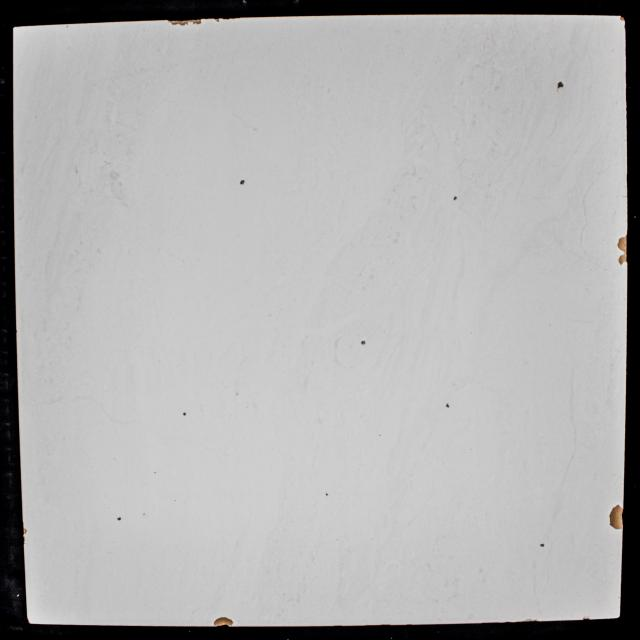edge-chipping: (609, 504, 624, 530), (214, 617, 234, 627), (617, 234, 627, 252), (618, 253, 628, 266), (171, 20, 189, 26), (522, 618, 540, 622), (192, 19, 202, 25), (582, 616, 590, 620), (620, 15, 625, 21), (23, 528, 27, 535), (214, 18, 220, 22), (23, 536, 26, 544), (27, 617, 30, 624), (167, 20, 171, 23), (22, 522, 24, 528), (624, 24, 626, 29), (190, 20, 192, 22)
hole: (557, 81, 564, 89), (240, 180, 245, 185), (360, 340, 366, 344), (117, 517, 121, 521), (540, 543, 544, 547), (446, 403, 449, 408), (183, 412, 186, 416), (454, 196, 457, 200), (326, 493, 328, 496)
